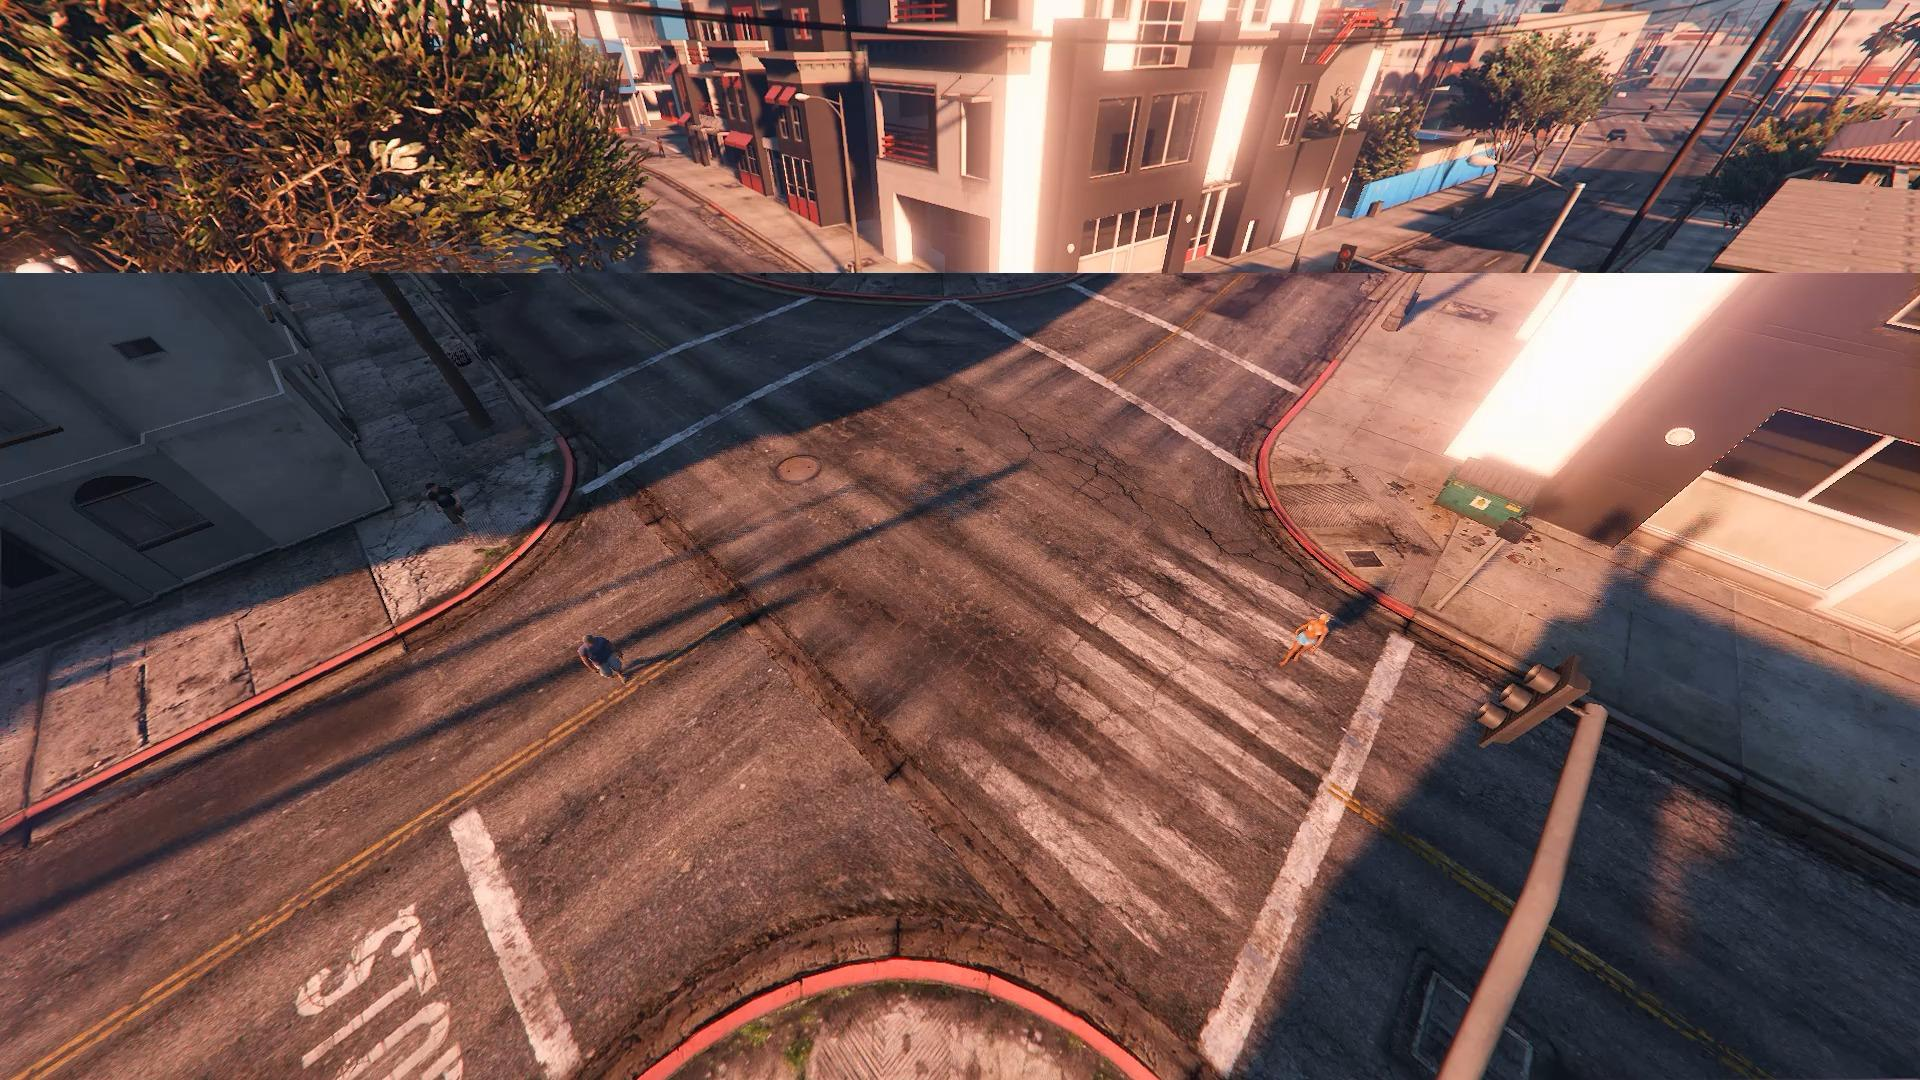car: (1607, 128, 1629, 144)
